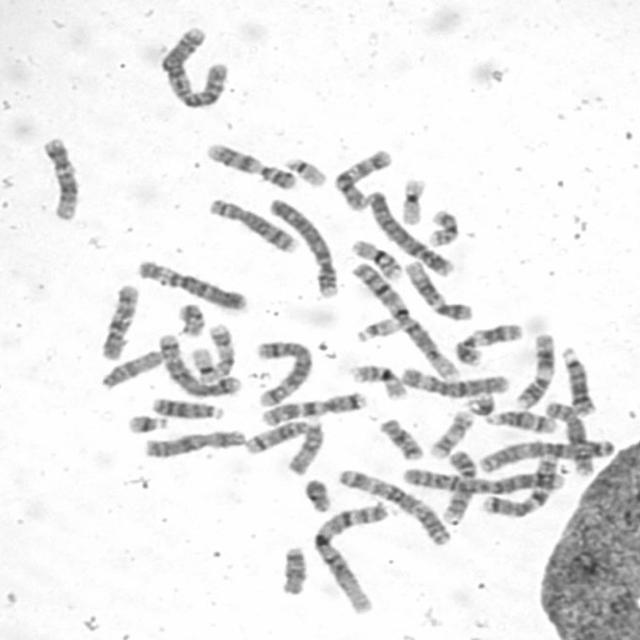A1: (347, 261, 461, 380), (308, 501, 391, 617)
A2: (158, 23, 231, 110), (397, 462, 569, 495)
A3: (335, 466, 452, 546), (474, 435, 616, 474)
B4: (365, 188, 456, 278), (264, 193, 338, 299)
B5: (155, 331, 242, 398), (253, 336, 315, 407)
C10: (330, 146, 394, 211), (96, 280, 142, 361)
C11: (513, 329, 557, 410), (452, 319, 522, 367)
C12: (402, 258, 474, 322), (38, 133, 80, 222)
C6: (133, 256, 248, 312), (396, 363, 510, 399)
C7: (478, 451, 564, 518), (256, 388, 369, 428)
C8: (204, 195, 299, 254), (541, 398, 594, 478)
C9: (202, 139, 297, 193), (438, 448, 478, 524)
D13: (557, 344, 597, 418), (148, 394, 223, 421)
D14: (240, 417, 312, 456), (481, 407, 557, 434)
D15: (97, 347, 166, 391), (284, 417, 325, 476)
E16: (348, 236, 404, 282), (347, 361, 409, 401)
E17: (426, 407, 476, 459), (203, 321, 236, 380)
E18: (376, 414, 424, 462), (276, 542, 310, 598)
F19: (396, 175, 428, 227), (188, 344, 224, 385)
F20: (422, 208, 468, 247), (175, 300, 207, 338)
G21: (124, 411, 170, 435), (464, 391, 497, 417)
G22: (352, 312, 404, 343), (282, 154, 329, 188)
X: (140, 426, 247, 460)
Y: (300, 475, 334, 513)
